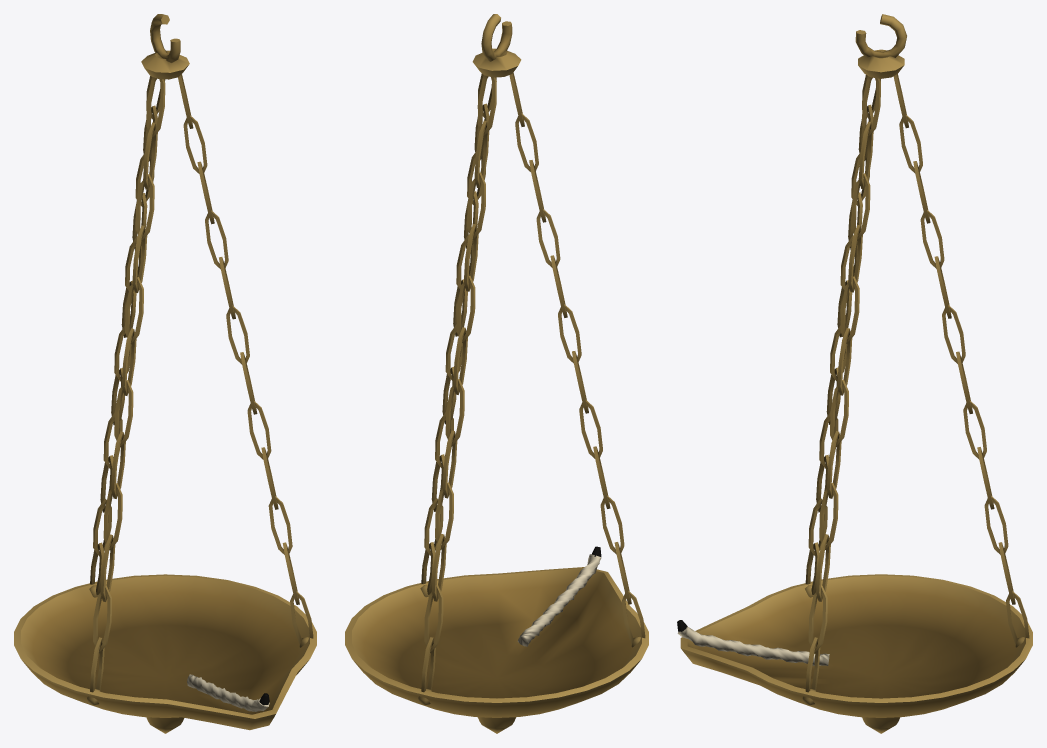
File: hanging-lamp.80dd521f.glb
3 renders of one model, left to right at view 1: azimuth 30°, elevation 25°; view 2: azimuth 150°, elevation 25°; view 3: azimuth 270°, elevation 25°, orthographic.
Parts seen in each view (by area): view 1: hanging_lamp; view 2: hanging_lamp; view 3: hanging_lamp.
Part boxes in pixels (x1,y1,x2,y2): hanging_lamp: (14, 14, 316, 733); hanging_lamp: (345, 14, 648, 733); hanging_lamp: (677, 14, 1032, 733).
Bounding box in the file's own units: 0.174 × 0.4528 × 0.2029.
